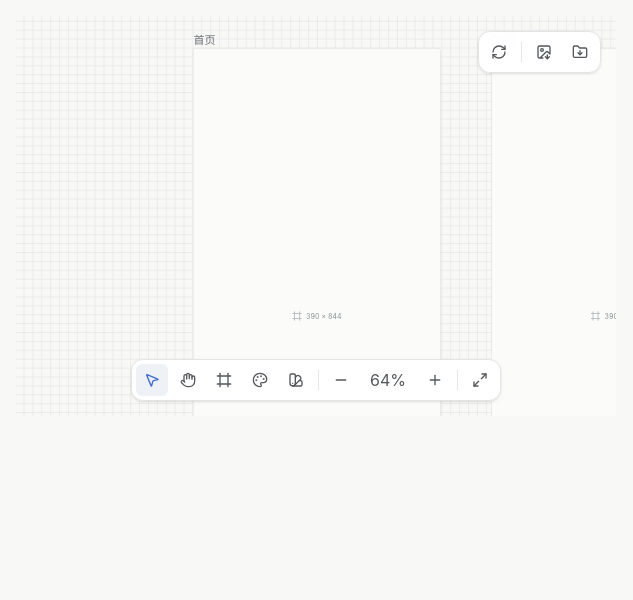
Test case: design canvas › 右键菜单开在指针处,而且**不在帧节点里**
The image size is (633, 600).
Right-click the element showing "390 × 844" below "首页": (317, 316) [194,49,440,583]
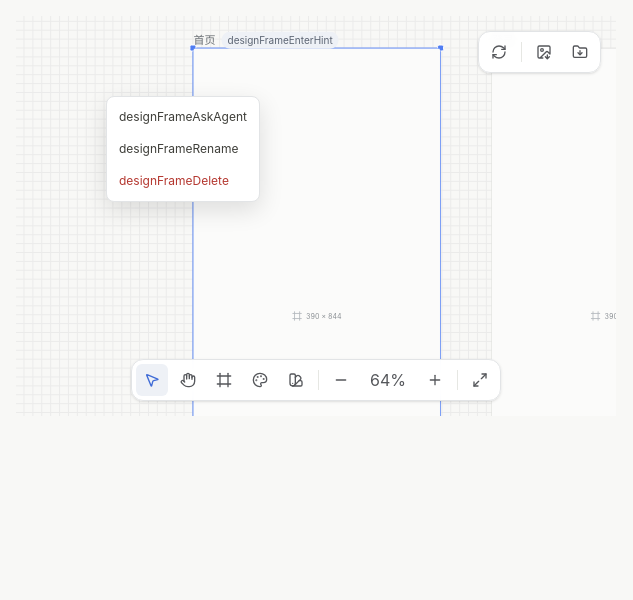
Now the element showing "designFrameAskAgent designFrameRename designFrameDelete" is shown, box [106,96,260,202]
